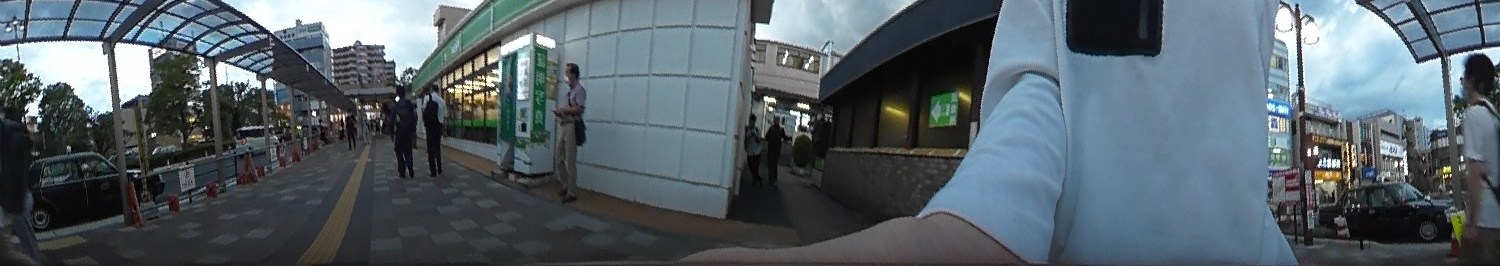difficult_person: (340, 106, 362, 149)
person: (1448, 50, 1500, 266), (540, 57, 594, 201), (416, 84, 454, 176), (388, 83, 420, 177), (736, 111, 767, 194), (758, 111, 792, 186)
